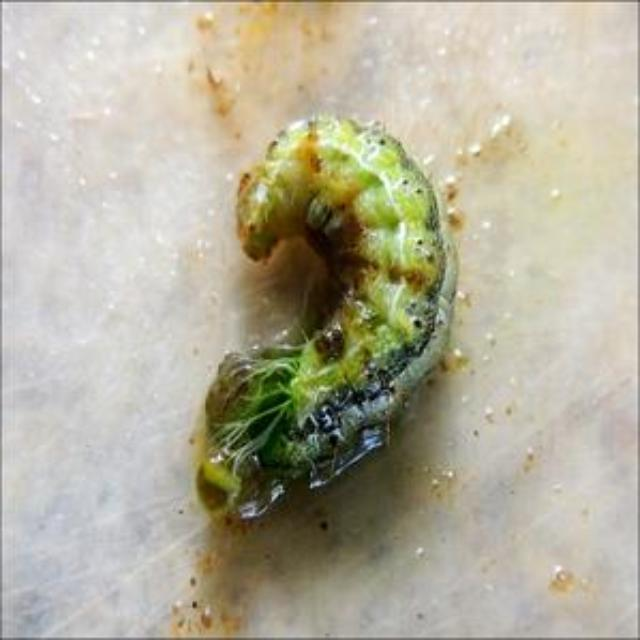Cotton bollworm: (182, 99, 470, 535)
